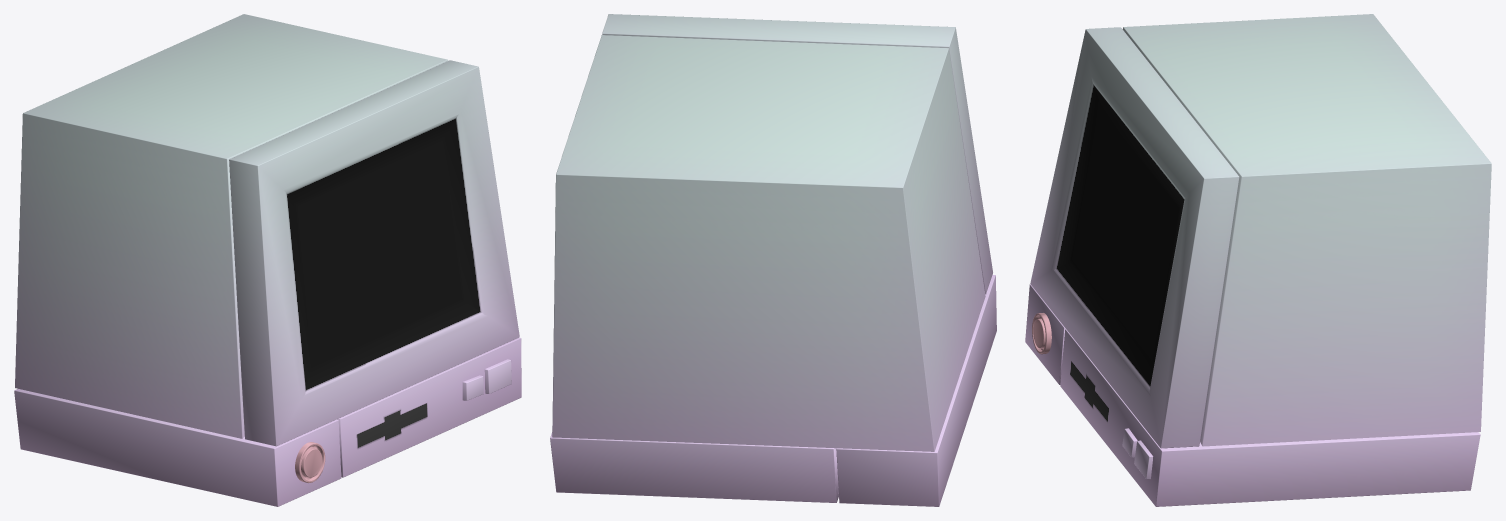
The model's file is Computer.glb.
The picture shows the model from 3 angles, left to right: view 1: azimuth 30°, elevation 25°; view 2: azimuth 150°, elevation 25°; view 3: azimuth 270°, elevation 25°; orthographic projection. The views are drawn at different scales.
Parts seen in each view (by area): view 1: Computer; view 2: Computer; view 3: Computer.
Boxes of the visible parts, x1,y1,x2,y2 form: Computer: [14, 14, 521, 506]; Computer: [550, 14, 996, 506]; Computer: [1025, 14, 1491, 506].
Bounding box in the file's own units: 7.31 × 6.12 × 7.1.
1 material, 1 textured.
